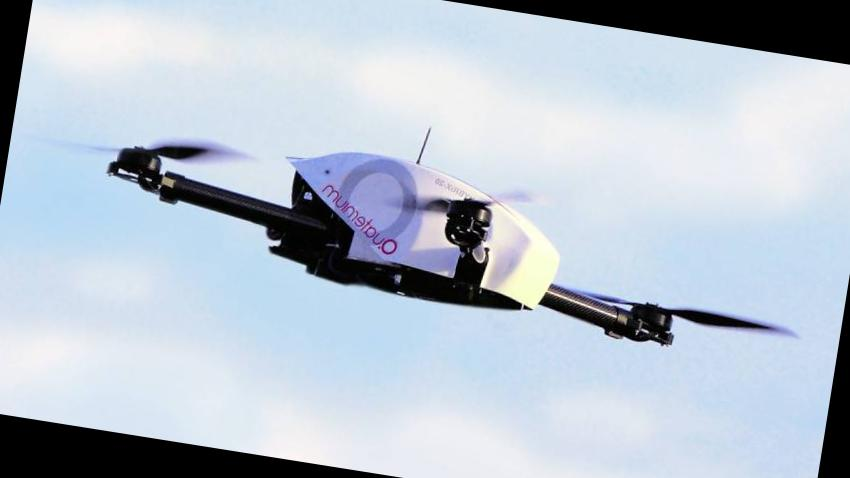drone: (53, 97, 793, 376)
